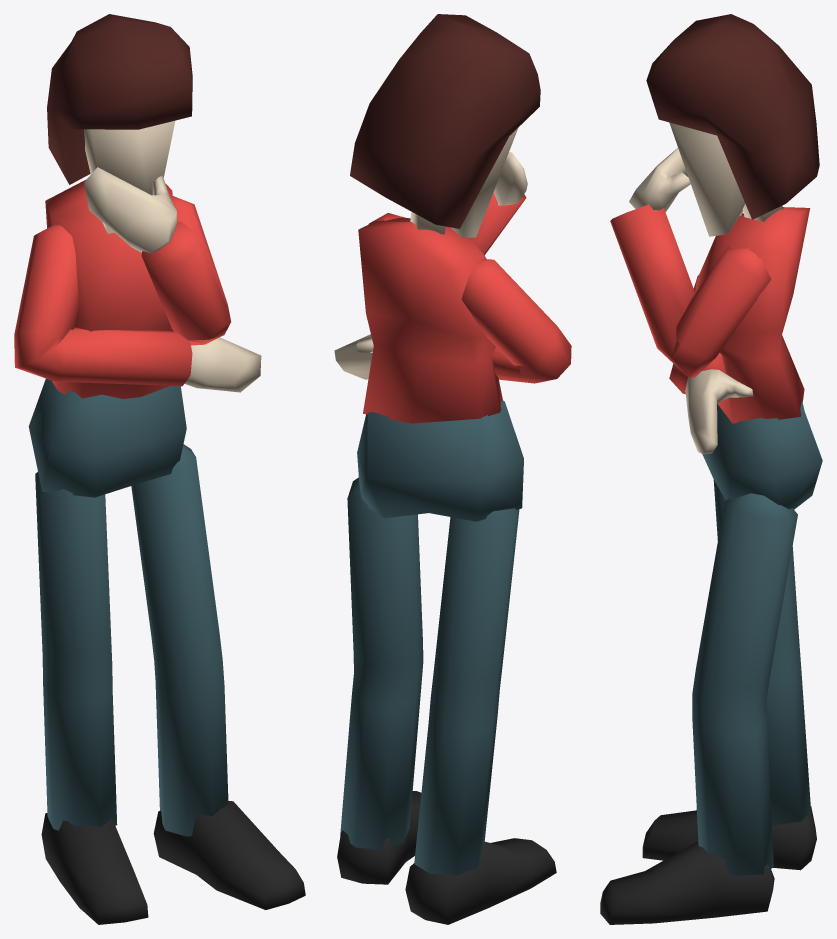
File: mesh_VisitorC.fbx
3 renders of one model, left to right at view 1: azimuth 30°, elevation 25°; view 2: azimuth 150°, elevation 25°; view 3: azimuth 270°, elevation 25°, orthographic. The views are drawn at different scales.
Parts seen in each view (by area): view 1: VisitorC; view 2: VisitorC; view 3: VisitorC.
Part boxes in pixels (x1,y1,x2,y2): VisitorC: [14, 14, 305, 924]; VisitorC: [334, 14, 571, 924]; VisitorC: [600, 14, 822, 924].
Size of the model in its own units: 29.85 by 103 by 24.64.
